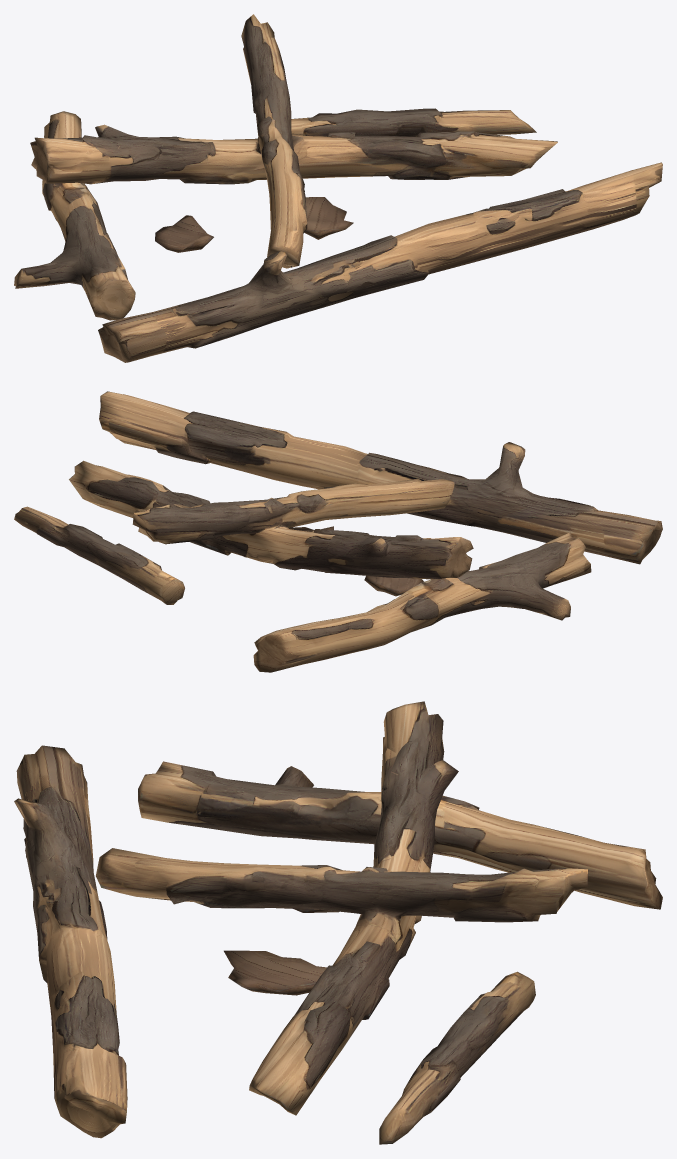
The picture shows the model from 3 angles, top to bottom: view 1: azimuth 30°, elevation 25°; view 2: azimuth 150°, elevation 25°; view 3: azimuth 270°, elevation 25°; orthographic projection. The views are drawn at different scales.
Parts seen in each view (by area): view 1: Mesh_0; view 2: Mesh_0; view 3: Mesh_0.
Boxes of the visible parts, x1,y1,x2,y2 form: Mesh_0: [14, 14, 662, 362]; Mesh_0: [14, 391, 662, 672]; Mesh_0: [14, 701, 662, 1144].
Size of the model in its own units: 1.91 by 0.362 by 1.43.
Materials: 1 (1 with a texture image).
